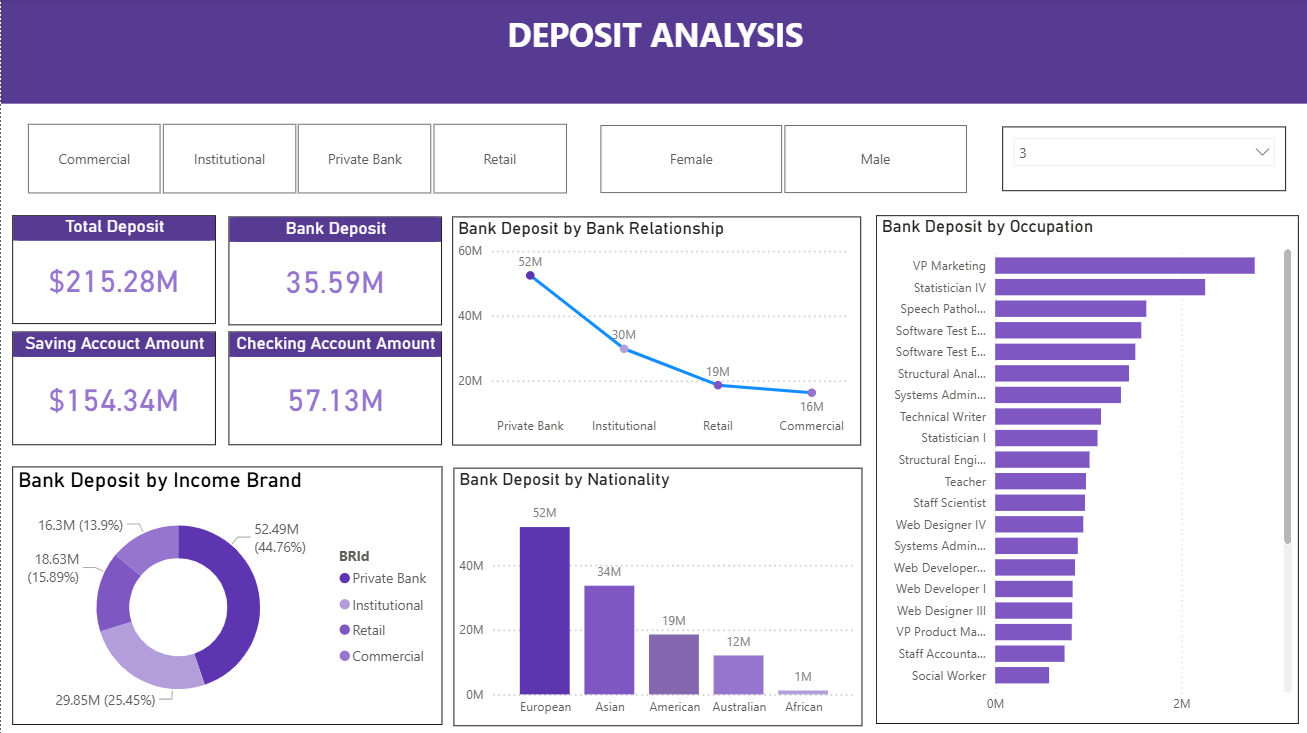

What the dashboard file says about the page in this screenshot:
{"tool":"powerbi","page":{"name":"Deposit Analysis","canvas":[1280,720],"ordinal":2},"visuals":[{"type":"textbox","box":[0,0,1280.3,102.7],"z":0},{"type":"slicer","fields":{"Values":["Banking.BRId"]},"box":[0,114.9,577.2,81.9],"z":1000},{"type":"slicer","fields":{"Values":["Banking.GenderId"]},"box":[560.1,116.2,408.4,80.7],"z":2000},{"type":"card","title":"Total Deposit","fields":{"Values":["All measures.Total Deposit"]},"box":[11,211.6,199.3,106.4],"z":3000},{"type":"card","title":"Checking Account Amount","fields":{"Values":["Sum(Banking.Checking Accounts)"]},"box":[222.6,325.3,209.1,111.3],"z":4000},{"type":"card","title":"Saving Accouct Amount","fields":{"Values":["All measures.Business Lending"]},"box":[11,325.3,199.3,111.3],"z":5000},{"type":"card","title":"Bank Deposit","fields":{"Values":["Sum(Banking.Saving Accounts)"]},"box":[222.6,212.8,209.1,106.4],"z":6000},{"type":"donutChart","title":"Bank Deposit by Income Brand","fields":{"Category":["Banking.BRId","Banking.Estimated Income"],"Y":["Sum(Banking.Bank Deposits)"]},"box":[11,457.3,420.7,253.1],"z":7000},{"type":"lineChart","title":"Bank Deposit by Bank Relationship","fields":{"Category":["Banking.BRId"],"Y":["Sum(Banking.Bank Deposits)"]},"box":[441.4,212.8,399.9,223.8],"z":8000},{"type":"clusteredColumnChart","title":"Bank Deposit by Nationality","fields":{"Category":["Banking.Nationality"],"Y":["Sum(Banking.Bank Deposits)"]},"box":[442.7,458.6,399.9,253.1],"z":9000},{"type":"barChart","title":"Bank Deposit by Occupation","fields":{"Category":["Banking.Occupation"],"Y":["Sum(Banking.Bank Deposits)"]},"box":[856,211.6,413.3,497.7],"z":10000},{"type":"slicer","fields":{"Values":["Banking.IAId"]},"box":[979.5,124.7,277.6,63.6],"z":11000}]}

Visuals, with their boxes in screenshot pixels (x1, y1, x2, y2), scaled from the page's 1280x720 canvas onto the 1307x733 screenshot:
textbox: 0 0 1306 105
slicer - Banking.BRId: 0 117 589 200
slicer - Banking.GenderId: 572 118 989 200
"Total Deposit" card: 11 215 215 324
"Checking Account Amount" card: 227 331 441 444
"Saving Accouct Amount" card: 11 331 215 444
"Bank Deposit" card: 227 217 441 325
"Bank Deposit by Income Brand" donutChart: 11 466 441 723
"Bank Deposit by Bank Relationship" lineChart: 451 217 859 444
"Bank Deposit by Nationality" clusteredColumnChart: 452 467 860 725
"Bank Deposit by Occupation" barChart: 874 215 1296 722
slicer - Banking.IAId: 1000 127 1284 192
